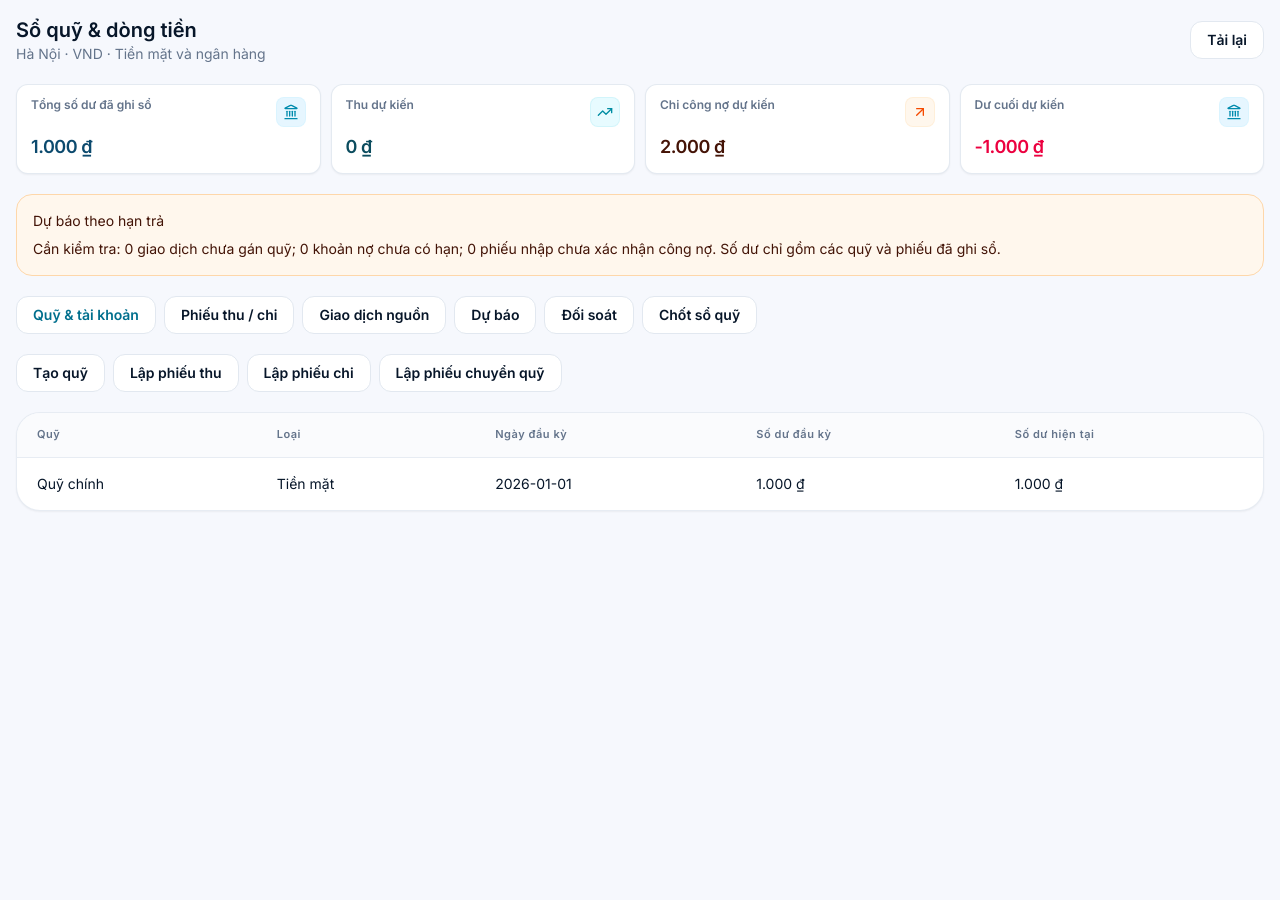
Test case: closes branch-specific entry dialogs when switching branch
Click the button "Tạo quỹ" at (60, 373), box [16,354,105,392]
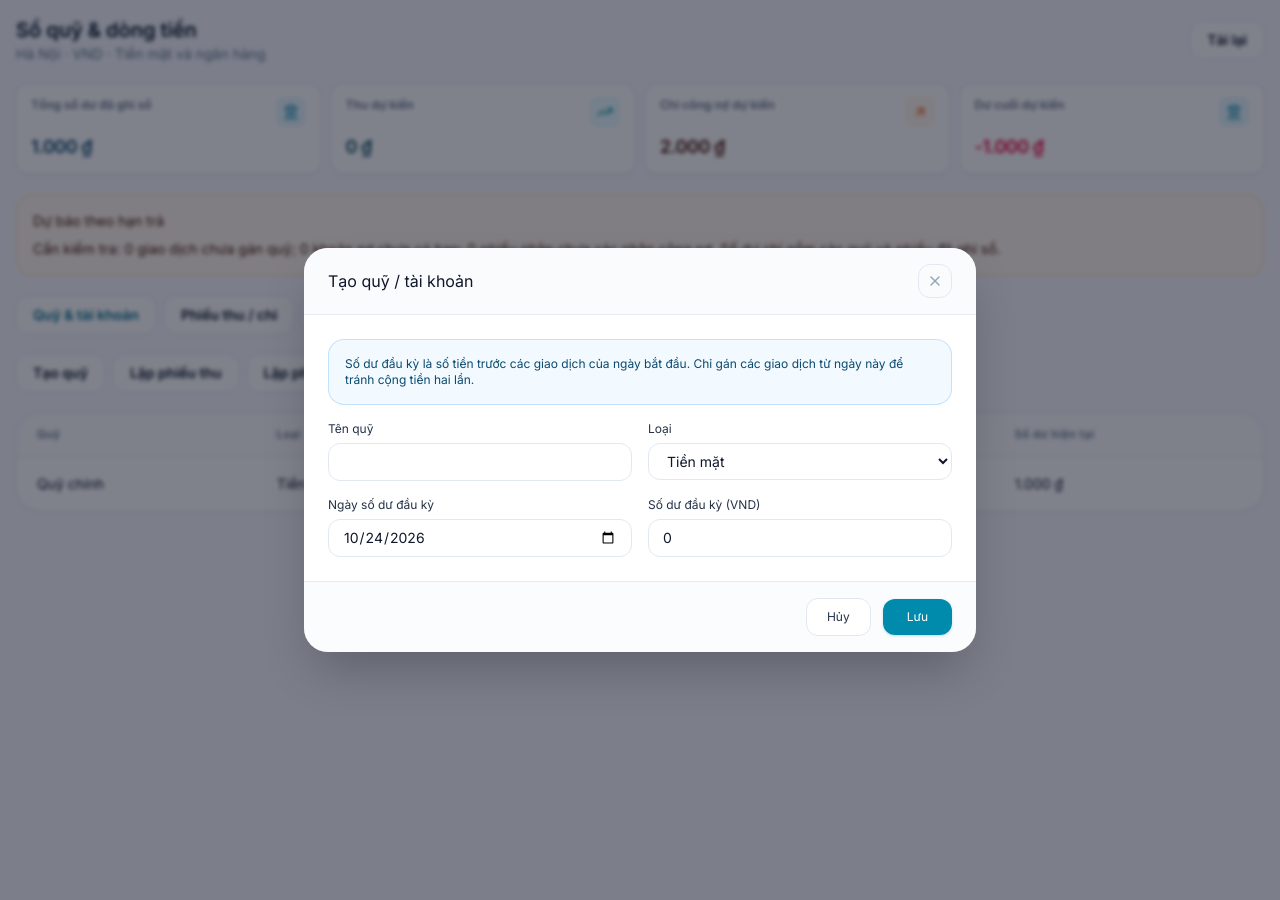
Check: the dialog is shown, box [304,248,976,652]
